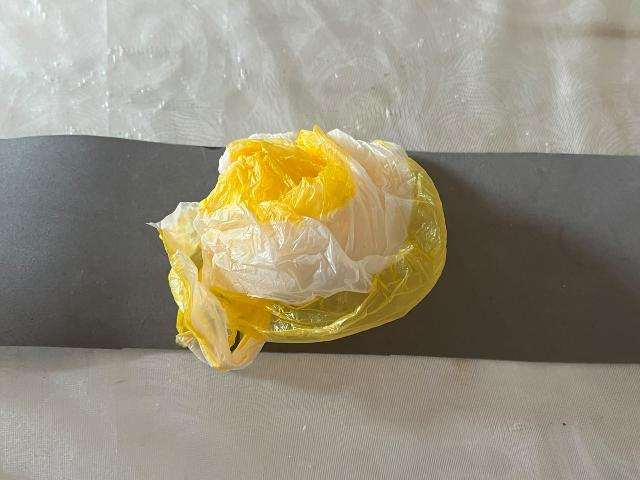LDPE: (127, 95, 477, 384)
